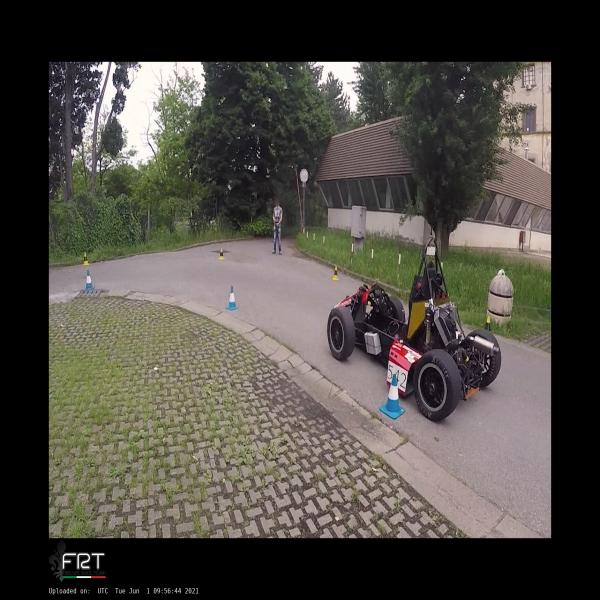blue_cone: (380, 374, 406, 419), (226, 286, 238, 310), (84, 270, 95, 290)
yellow_cone: (82, 252, 90, 266), (332, 266, 339, 280), (484, 316, 490, 332), (218, 248, 225, 260)
